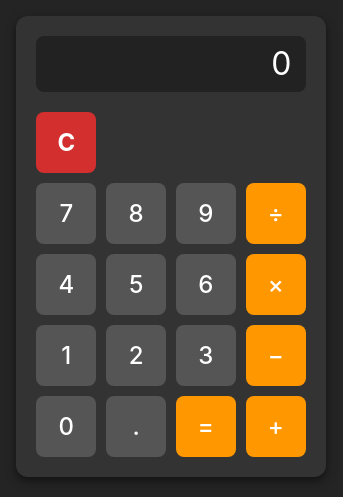
it: App component › clears the display when C is clicked
The width and height of the screenshot is (343, 497).
What coordinates should you click on to do the following:
click the button "1"
I would click on:
 (66, 355)
Its box is top-left (36, 324), bottom-right (96, 386).
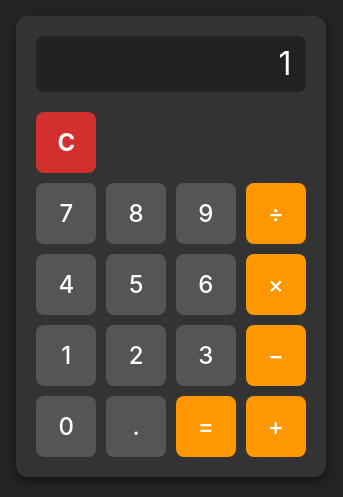
Now the text with test id "display" reads "1", box top-left (278, 44), bottom-right (292, 83)
What coordinates should you click on to do the following:
click the button "C"
I would click on:
 (66, 142)
Its box is top-left (36, 112), bottom-right (96, 172).
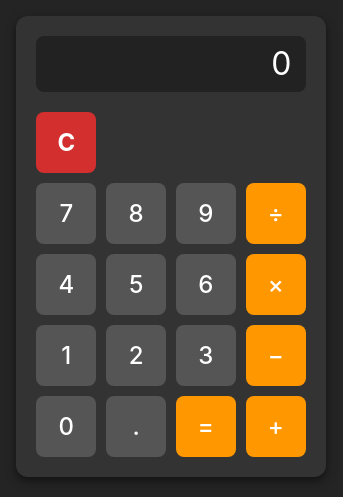
Now the text with test id "display" reads "0", box top-left (271, 44), bottom-right (292, 83)
